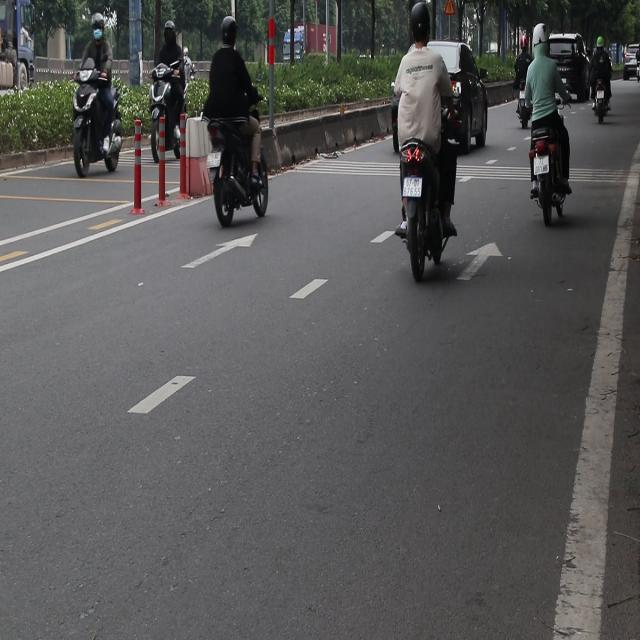car: (425, 38, 489, 153), (547, 34, 591, 102), (622, 44, 638, 80)
motorbike: (388, 144, 456, 289), (201, 111, 271, 234), (516, 126, 584, 229), (70, 58, 122, 178), (148, 68, 188, 162), (590, 75, 615, 126), (510, 88, 534, 130)
truck: (0, 1, 46, 110), (279, 23, 341, 68)
